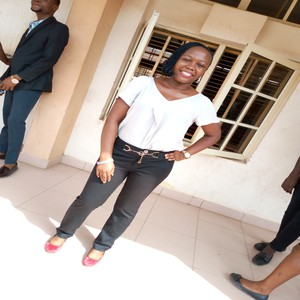Fulokoja_female_student: (120, 42, 201, 215), (9, 1, 57, 155)
